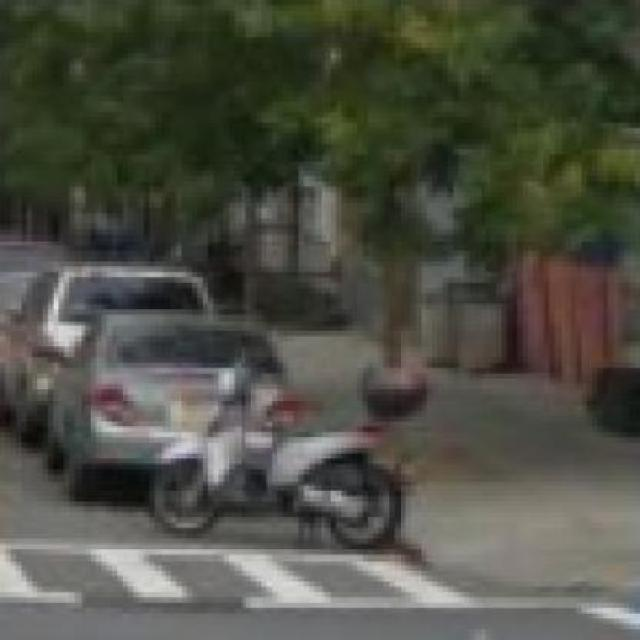crosswalk: (3, 545, 485, 604)
